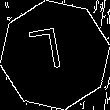L_S: (36, 28, 74, 82)
